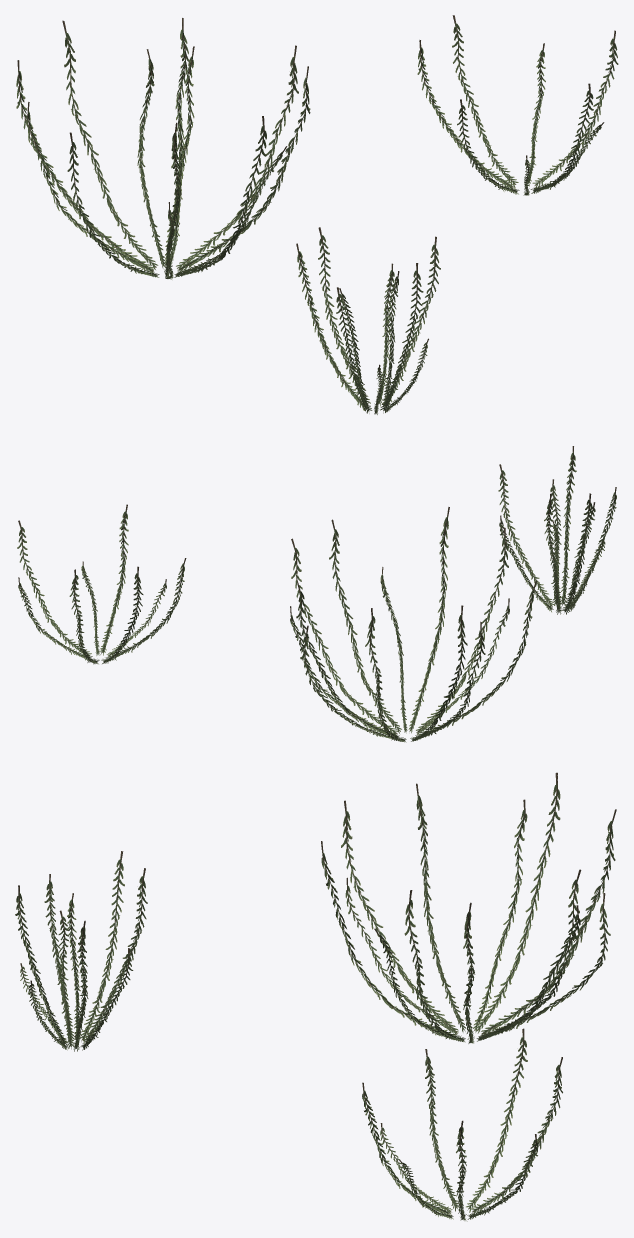
Rendered from ocotillo.glb.
The picture shows the model from 3 angles, top to bottom: view 1: azimuth 30°, elevation 25°; view 2: azimuth 150°, elevation 25°; view 3: azimuth 270°, elevation 25°; orthographic projection. The views are drawn at different scales.
Visible parts, largest first — view 1: geometry_0; view 2: geometry_0; view 3: geometry_0.
Boxes of the visible parts, left/top/right/bottom form: geometry_0: left=16, top=15, right=618, bottom=414; geometry_0: left=17, top=446, right=616, bottom=742; geometry_0: left=15, top=772, right=616, bottom=1221.
Bounding box in the file's own units: 7423 × 2600 × 6621.
Materials: 1 (1 with a texture image).
